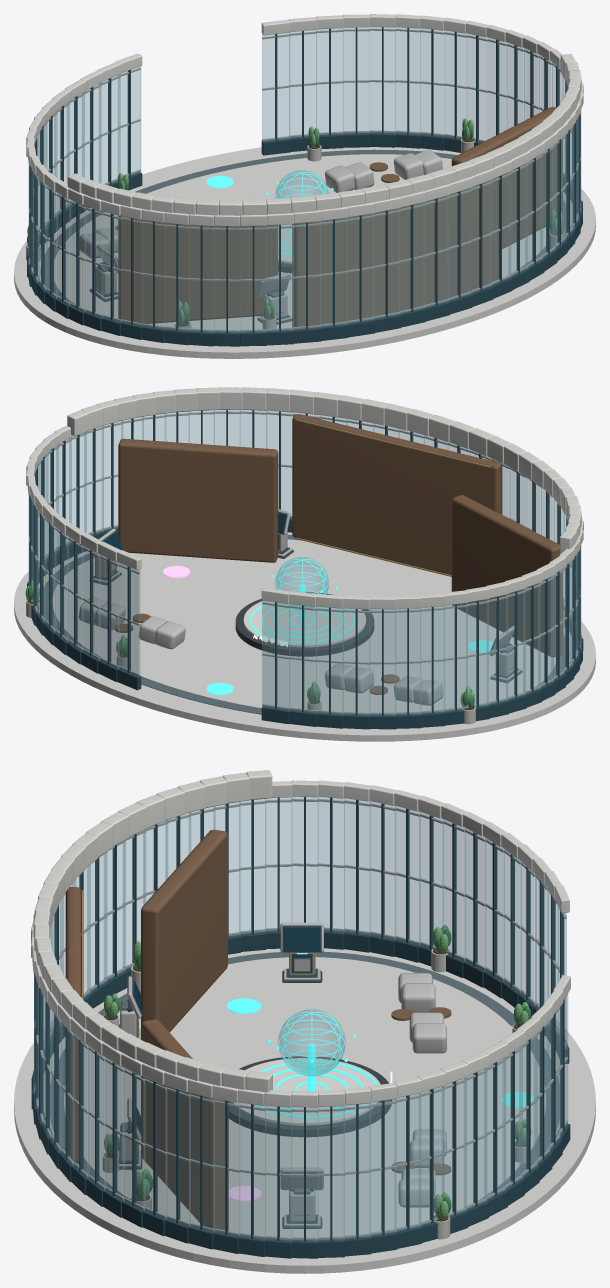
File: government-central-plaza-DOxA3JOx.glb
The picture shows the model from 3 angles, top to bottom: view 1: azimuth 30°, elevation 25°; view 2: azimuth 150°, elevation 25°; view 3: azimuth 270°, elevation 25°; orthographic projection. The views are drawn at different scales.
Visible parts, largest first — view 1: WebUI_Surface_Center, WebUI_Surface_Left, Ground_GovernmentCentralPlaza, Main_Floor, WebUI_Surface_Right, GlassFacade_51, GlassFacade_18, GlassFacade_22, GlassFacade_20, GlassFacade_21, GlassFacade_19, GlassFacade_54 (+47 smaller); view 2: Main_Floor, WebUI_Surface_Center, WebUI_Surface_Right, Ground_GovernmentCentralPlaza, WebUI_Surface_Left, AI_Platform_Stone, GlassFacade_45, GlassFacade_44, GlassFacade_43, GlassFacade_42, GlassFacade_41, GlassFacade_40 (+61 smaller); view 3: Main_Floor, Ground_GovernmentCentralPlaza, WebUI_Surface_Left, WebUI_Surface_Right, Floor_Inlay, AI_Platform_Stone, AI_Globe, GlassFacade_00, GlassFacade_61, GlassFacade_01, GlassFacade_63, GlassFacade_34 (+73 smaller).
Part boxes in pixels (x1=…): WebUI_Surface_Center: x1=292, y1=177, x2=498, y2=327; WebUI_Surface_Left: x1=118, y1=215, x2=278, y2=323; Ground_GovernmentCentralPlaza: x1=14, y1=147, x2=595, y2=358; Main_Floor: x1=54, y1=154, x2=549, y2=330; WebUI_Surface_Right: x1=451, y1=107, x2=562, y2=248; GlassFacade_51: x1=262, y1=33, x2=289, y2=145; GlassFacade_18: x1=346, y1=214, x2=374, y2=323; GlassFacade_22: x1=240, y1=226, x2=266, y2=332; GlassFacade_20: x1=293, y1=221, x2=320, y2=329; GlassFacade_21: x1=266, y1=224, x2=293, y2=331; GlassFacade_19: x1=320, y1=218, x2=347, y2=327; GlassFacade_54: x1=343, y1=27, x2=369, y2=133; Main_Floor: x1=52, y1=539, x2=555, y2=712; WebUI_Surface_Center: x1=292, y1=414, x2=501, y2=574; WebUI_Surface_Right: x1=118, y1=438, x2=278, y2=562; Ground_GovernmentCentralPlaza: x1=14, y1=532, x2=595, y2=741; WebUI_Surface_Left: x1=451, y1=495, x2=562, y2=656; AI_Platform_Stone: x1=243, y1=600, x2=366, y2=647; GlassFacade_45: x1=262, y1=600, x2=289, y2=710; GlassFacade_44: x1=289, y1=604, x2=316, y2=713; GlassFacade_43: x1=316, y1=607, x2=343, y2=714; GlassFacade_42: x1=343, y1=608, x2=369, y2=715; GlassFacade_41: x1=369, y1=609, x2=395, y2=715; GlassFacade_40: x1=395, y1=608, x2=420, y2=714; Main_Floor: x1=64, y1=957, x2=545, y2=1237; Ground_GovernmentCentralPlaza: x1=14, y1=948, x2=595, y2=1273; WebUI_Surface_Left: x1=141, y1=829, x2=227, y2=1032; WebUI_Surface_Right: x1=141, y1=1019, x2=225, y2=1230; Floor_Inlay: x1=50, y1=951, x2=559, y2=1200; AI_Platform_Stone: x1=231, y1=1058, x2=380, y2=1125; AI_Globe: x1=278, y1=1009, x2=345, y2=1075; GlassFacade_00: x1=291, y1=1107, x2=318, y2=1241; GlassFacade_61: x1=369, y1=1099, x2=396, y2=1236; GlassFacade_01: x1=265, y1=1106, x2=291, y2=1241; GlassFacade_63: x1=318, y1=1106, x2=344, y2=1240; GlassFacade_34: x1=344, y1=798, x2=370, y2=935.
Size of the model in its own units: 28 by 7.4 by 21.
